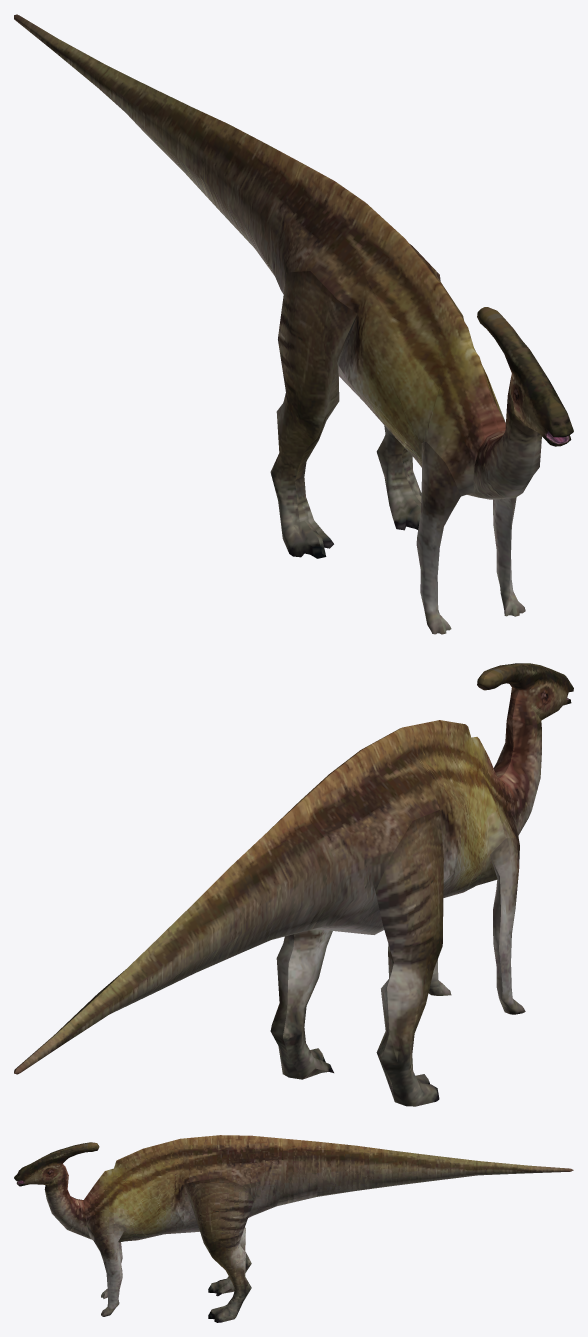
The model's file is para.obj.
The picture shows the model from 3 angles, top to bottom: view 1: azimuth 30°, elevation 25°; view 2: azimuth 150°, elevation 25°; view 3: azimuth 270°, elevation 25°; orthographic projection. The views are drawn at different scales.
Visible parts, largest first — view 1: d_L_UpperArm_mesh; view 2: d_L_UpperArm_mesh; view 3: d_L_UpperArm_mesh.
Boxes of the visible parts, <box> form: d_L_UpperArm_mesh: <box>14,14,573,634</box>; d_L_UpperArm_mesh: <box>14,663,573,1106</box>; d_L_UpperArm_mesh: <box>14,1135,573,1322</box>.
Size of the model in its own units: 0.6839 by 1.5 by 4.45.
Materials: 1 (1 with a texture image).
